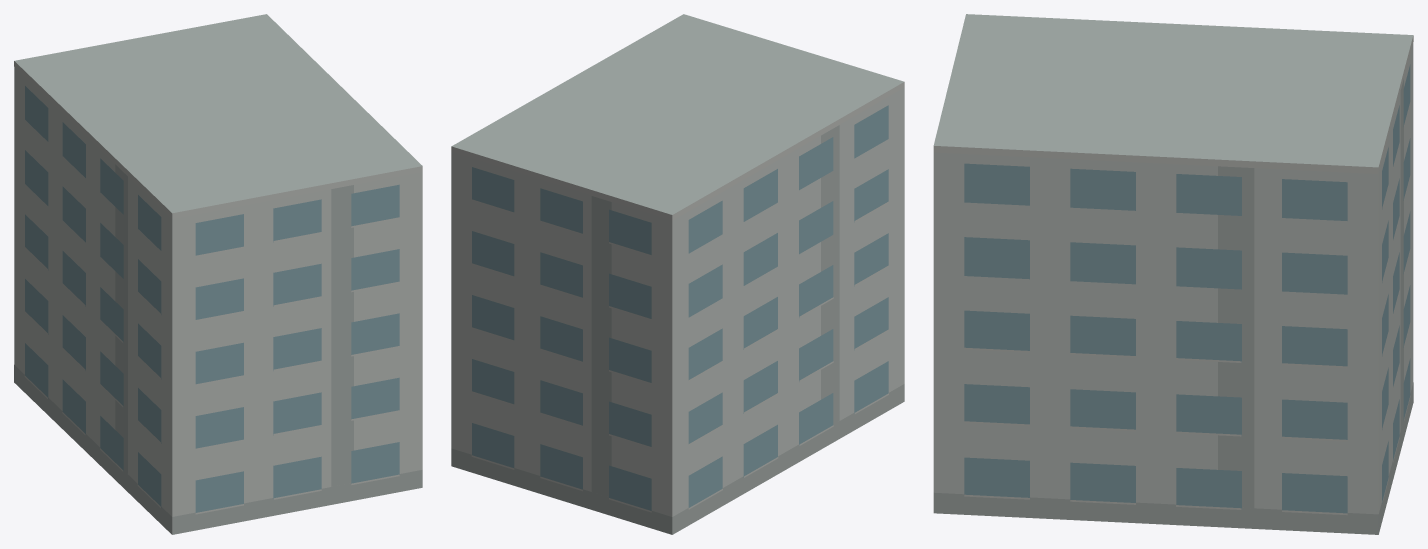
File: survey-upis-32572382.glb
The picture shows the model from 3 angles, left to right: view 1: azimuth 30°, elevation 25°; view 2: azimuth 150°, elevation 25°; view 3: azimuth 270°, elevation 25°; orthographic projection. The views are drawn at different scales.
Parts seen in each view (by area): view 1: survey-upis-32572382.tmp; view 2: survey-upis-32572382.tmp; view 3: survey-upis-32572382.tmp.
Boxes of the visible parts, left/top/right/bottom form: survey-upis-32572382.tmp: left=14, top=14, right=422, bottom=534; survey-upis-32572382.tmp: left=451, top=14, right=904, bottom=534; survey-upis-32572382.tmp: left=933, top=14, right=1413, bottom=534.
Size of the model in its own units: 11.92 by 13.3 by 15.75.
